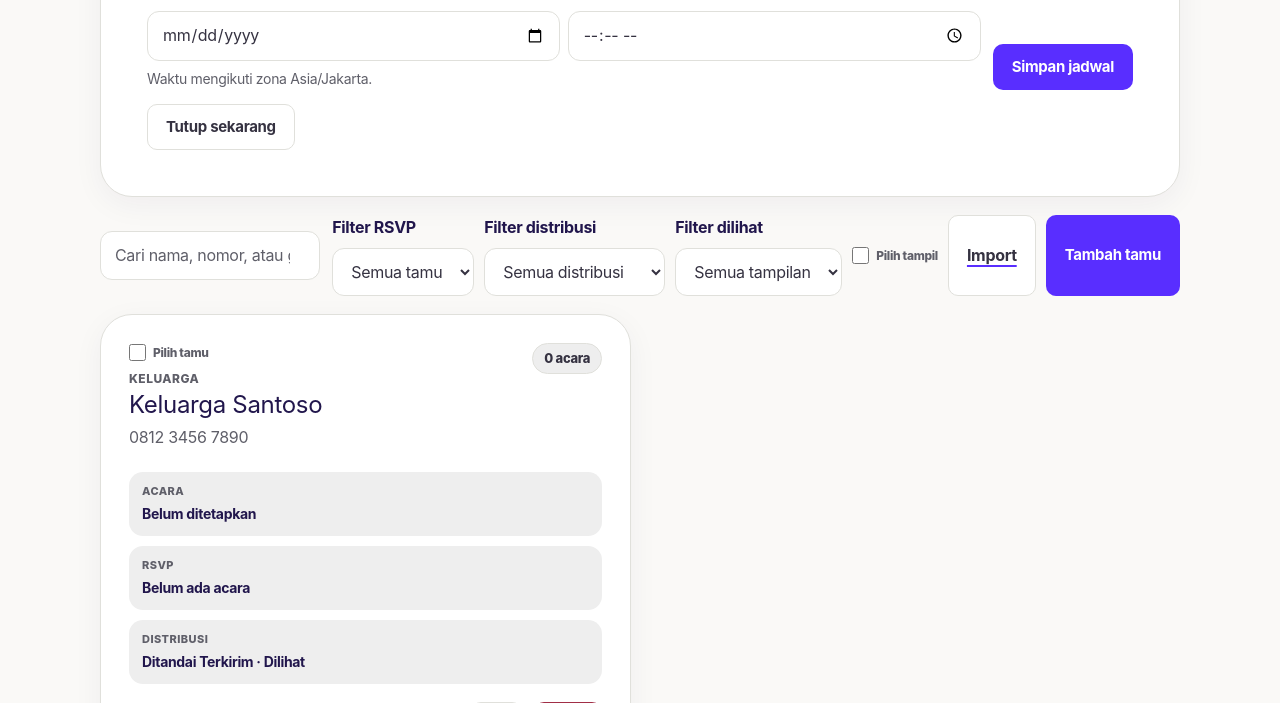
Test case: GuestsManager › shows distribution state and exposes compact bulk actions after selection
The width and height of the screenshot is (1280, 703).
(page scrolled)
Check: the text "Ditandai Terkirim · Dilihat" is shown, box 142,653 -> 305,670
Click the checkbox named "Pilih Keluarga Santoso" at coordinates (138, 352), box 129,344 -> 146,361
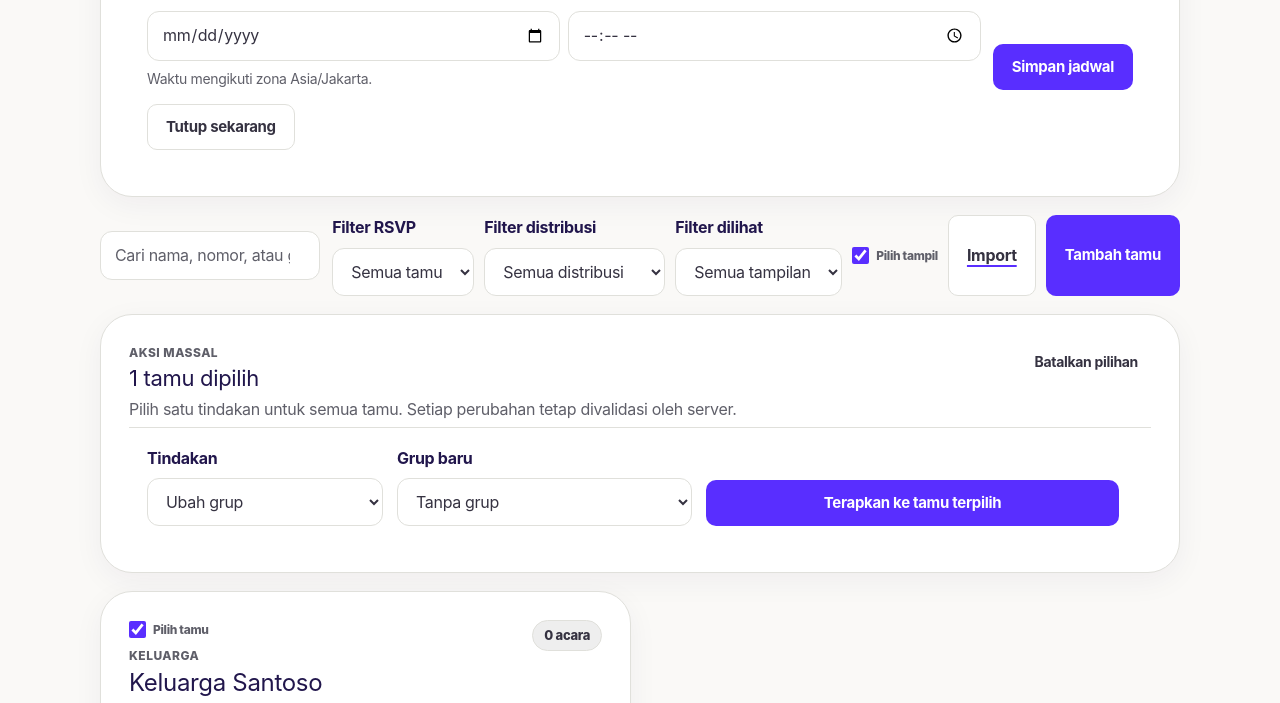
Check: the heading "1 tamu dipilih" is shown, box 129,366 -> 259,391
Check: the dropdown labelled "Tindakan" is shown
Select "Status distribusi" in the dropdown labelled "Tindakan" at coordinates (265, 502), box 147,478 -> 383,526
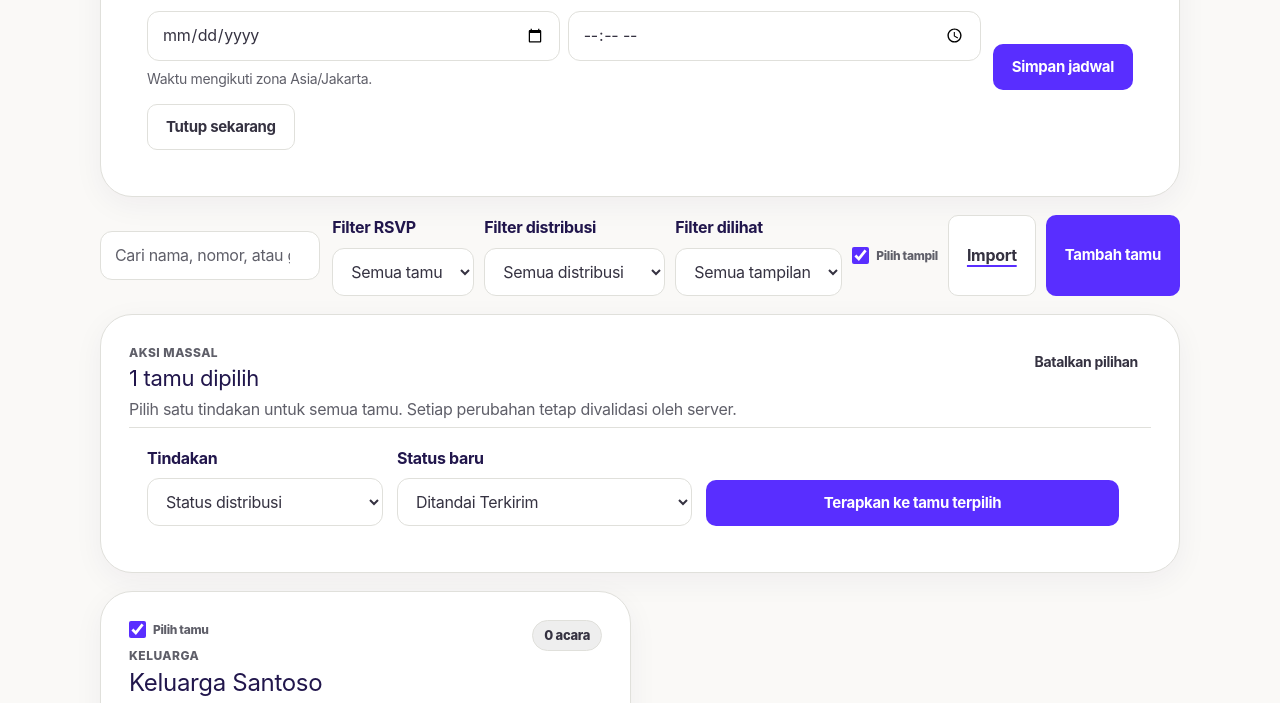
Check: the button "Terapkan ke tamu terpilih" is shown, box 706,480 -> 1119,526
Check: the dropdown labelled "Status baru" is shown, box 397,478 -> 692,526
